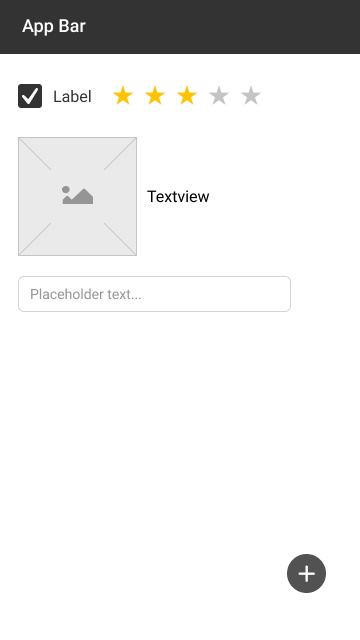checkBox: (15, 81, 94, 110)
editText: (16, 274, 293, 314)
floatingButton: (283, 551, 329, 596)
imageView: (15, 133, 140, 260)
ratingBar: (110, 85, 262, 107)
textView: (147, 188, 210, 205)
toolbar: (1, 1, 360, 56)
